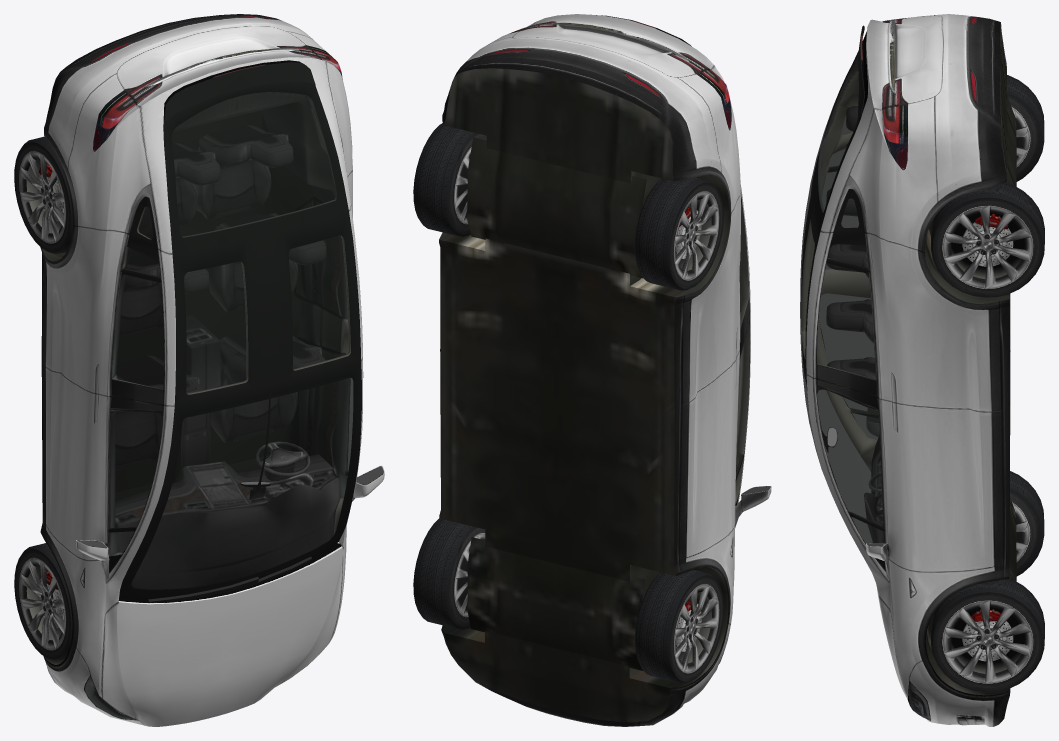
File: CarWhite.glb
The picture shows the model from 3 angles, left to right: view 1: azimuth 30°, elevation 25°; view 2: azimuth 150°, elevation 25°; view 3: azimuth 270°, elevation 25°; orthographic projection. The views are drawn at different scales.
Visible parts, largest first — view 1: object_car.002; view 2: object_car.002; view 3: object_car.002.
Part boxes in pixels (x1,y1,x2,y2): object_car.002: (14,14,384,726); object_car.002: (413,14,771,726); object_car.002: (800,14,1044,726).
Bounding box in the file's own units: 2.38 × 5.07 × 1.7.
2 materials, 2 textured.
